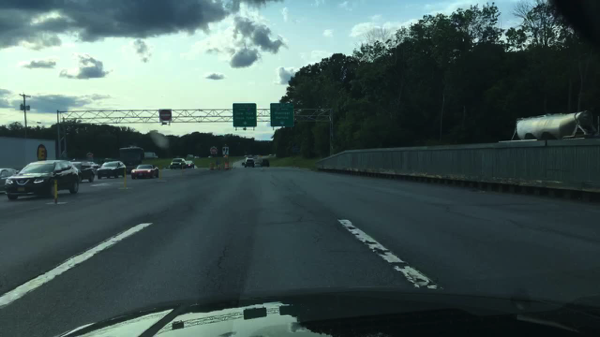car: (6, 160, 79, 199), (68, 162, 96, 183), (96, 161, 126, 179), (0, 168, 20, 192), (131, 164, 160, 180), (169, 158, 186, 170), (87, 162, 100, 176), (244, 158, 254, 168), (184, 161, 195, 169), (261, 161, 270, 167), (254, 162, 261, 167), (187, 154, 193, 159), (193, 156, 199, 159), (242, 161, 245, 165)
traffic sign: (269, 103, 295, 128), (232, 103, 257, 127), (159, 109, 172, 122), (210, 147, 218, 155), (222, 147, 229, 155), (291, 147, 301, 152)
truck: (118, 146, 143, 175), (144, 152, 159, 159)
